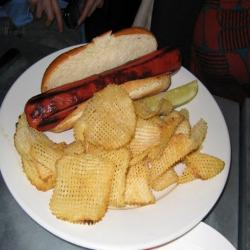hotdog: (24, 26, 189, 135)
